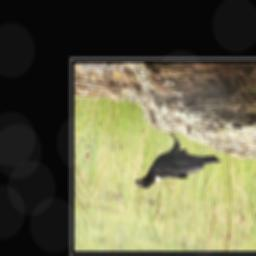Crow: (134, 132, 222, 189)
